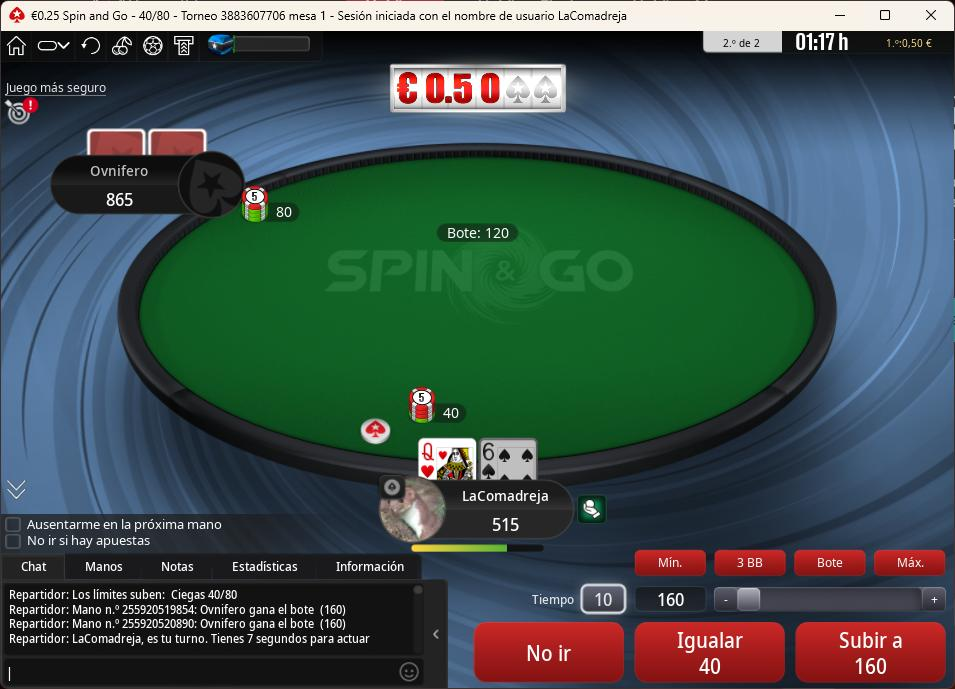Button3PotRaise: (715, 550, 785, 575)
ButtonCall: (633, 620, 785, 685)
ButtonFold: (474, 620, 626, 685)
ButtonMaxRaise: (876, 549, 945, 575)
ButtonMinRaise: (635, 549, 706, 576)
ButtonPotRaise: (796, 551, 867, 577)
ButtonRaise: (794, 620, 946, 685)
Dealer: (362, 420, 391, 444)
HiddenCards: (88, 129, 208, 159)
Player: (51, 153, 246, 217)
PlayerChips: (103, 187, 138, 208)
Pot: (438, 223, 520, 246)
PrincipalBet: (404, 387, 474, 427)
PrincipalCards: (419, 438, 538, 484)
PrincipalCards1: (413, 435, 478, 483)
PrincipalCards2: (479, 436, 542, 482)
PrincipalPlayer: (381, 478, 574, 544)
PrincipalPlayerChips: (488, 513, 525, 536)
